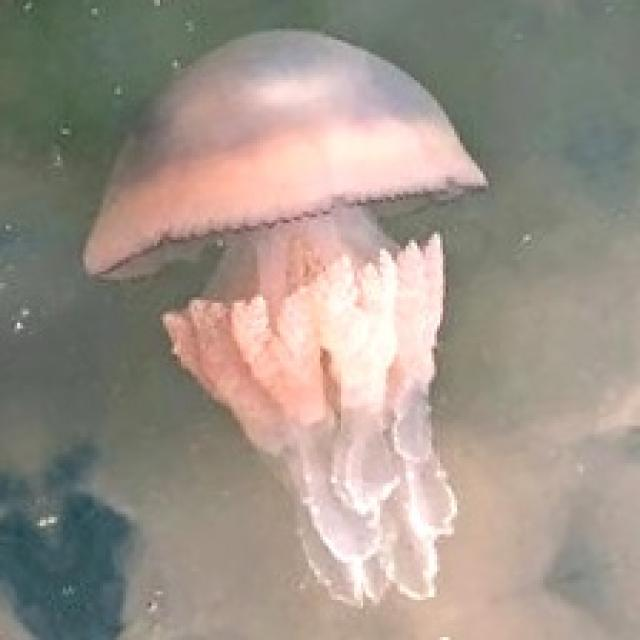Box-jellyfish: (80, 23, 489, 608)
